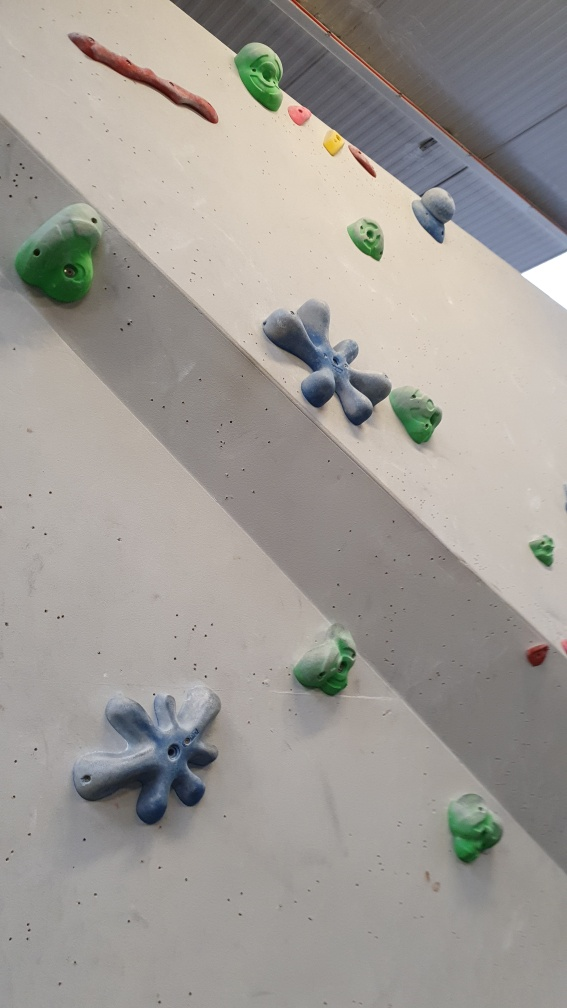Jug: (12, 196, 112, 309), (294, 614, 359, 700), (444, 793, 506, 873), (387, 385, 447, 452), (236, 38, 287, 114)
Octopus Pinch: (66, 677, 221, 828), (260, 290, 392, 427)
Sloper: (410, 182, 457, 250)
